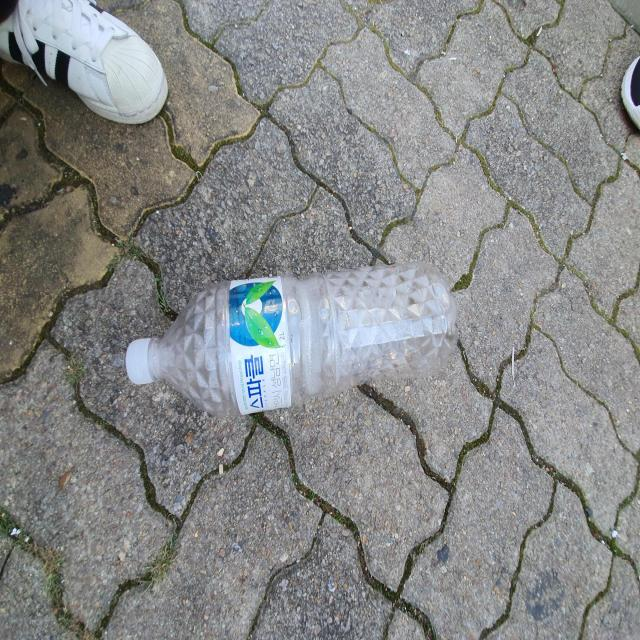plastic: (125, 262, 458, 417)
